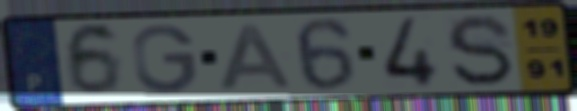4: (380, 14, 442, 90)
6: (61, 21, 128, 102), (292, 16, 358, 94)
A: (216, 22, 296, 93)
G: (130, 22, 200, 96)
S: (442, 12, 518, 88)
